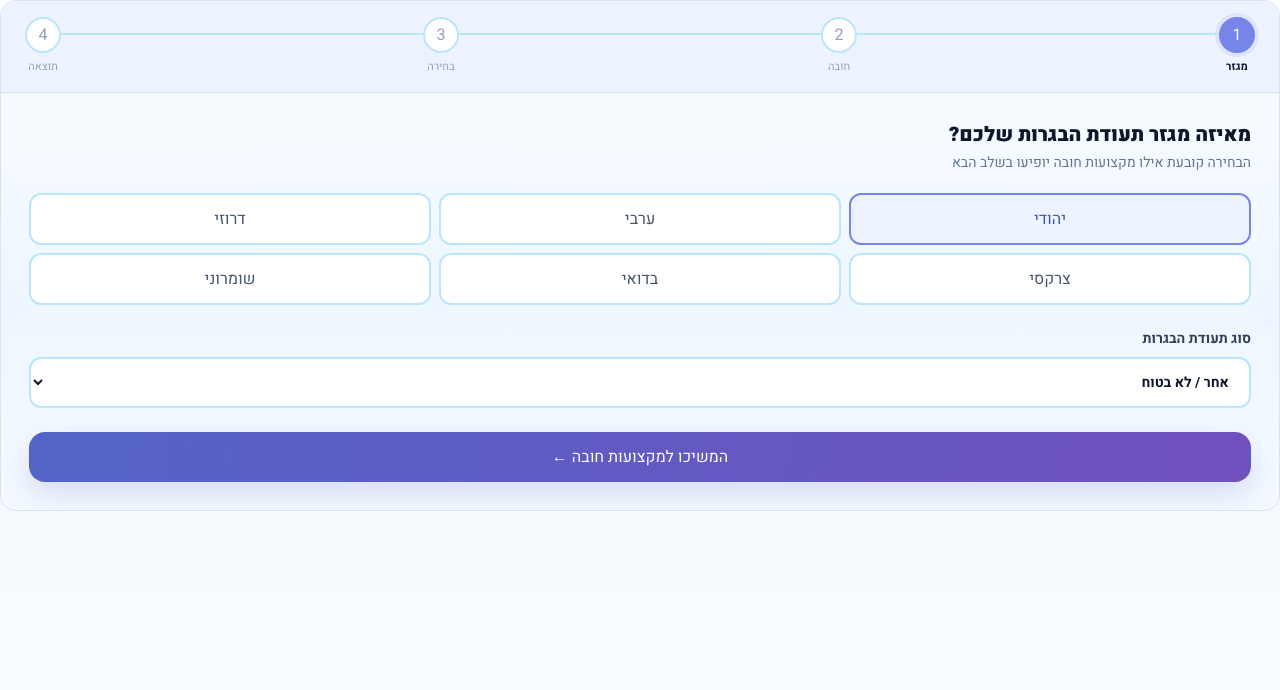
new-row defaults in wizard › defaults Hebrew to 3 after selecting ערבי
Step 1. Click the button "ערבי" → coordinates (640, 218), box x1=439 y1=192 x2=841 y2=244
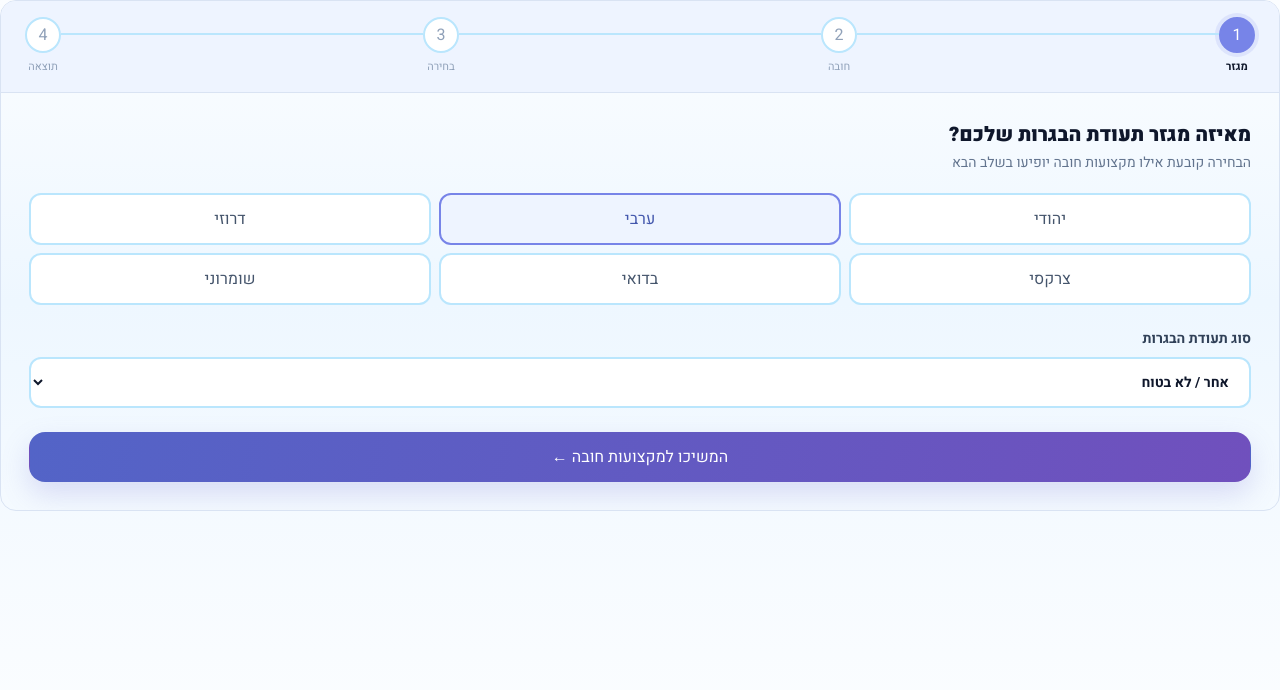
Step 2. Click the button "המשיכו למקצועות חובה ←" → coordinates (640, 456), box x1=29 y1=432 x2=1251 y2=482
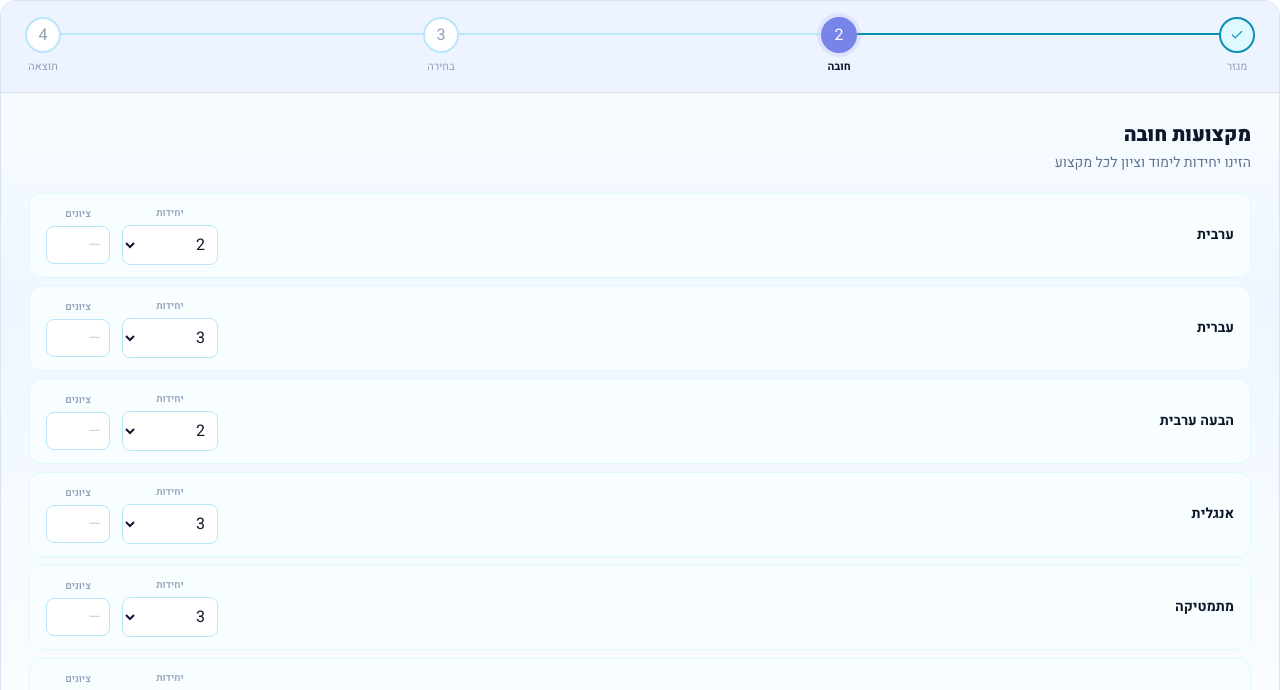
Result: the dropdown named "יחידות עברית" shows "3" at x1=122 y1=318 x2=218 y2=358
Result: the dropdown named "יחידות ערבית" shows "2" at x1=122 y1=224 x2=218 y2=264
